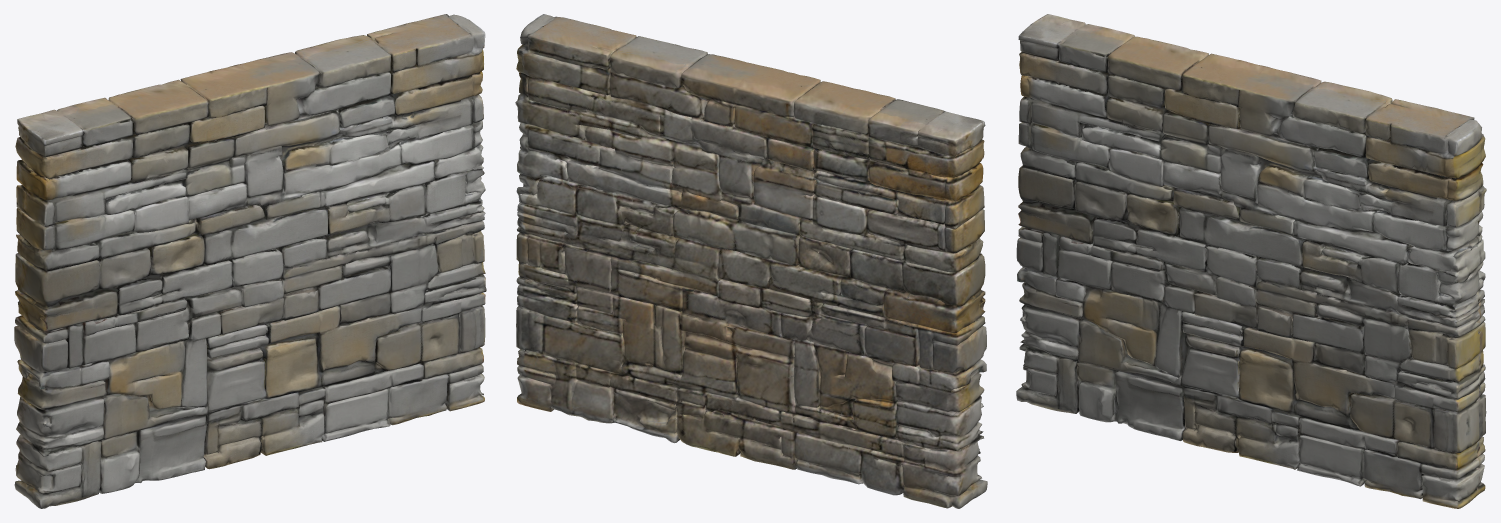
File: Meshy_AI_Stone_Wall_Pattern_0311203504_texture.glb
3 views of the same model, side by side, from view 1: azimuth 30°, elevation 25°; view 2: azimuth 150°, elevation 25°; view 3: azimuth 330°, elevation 25° (orthographic).
Bounding box in the file's own units: 2 × 1.58 × 0.2596.
1 material, 1 textured.
